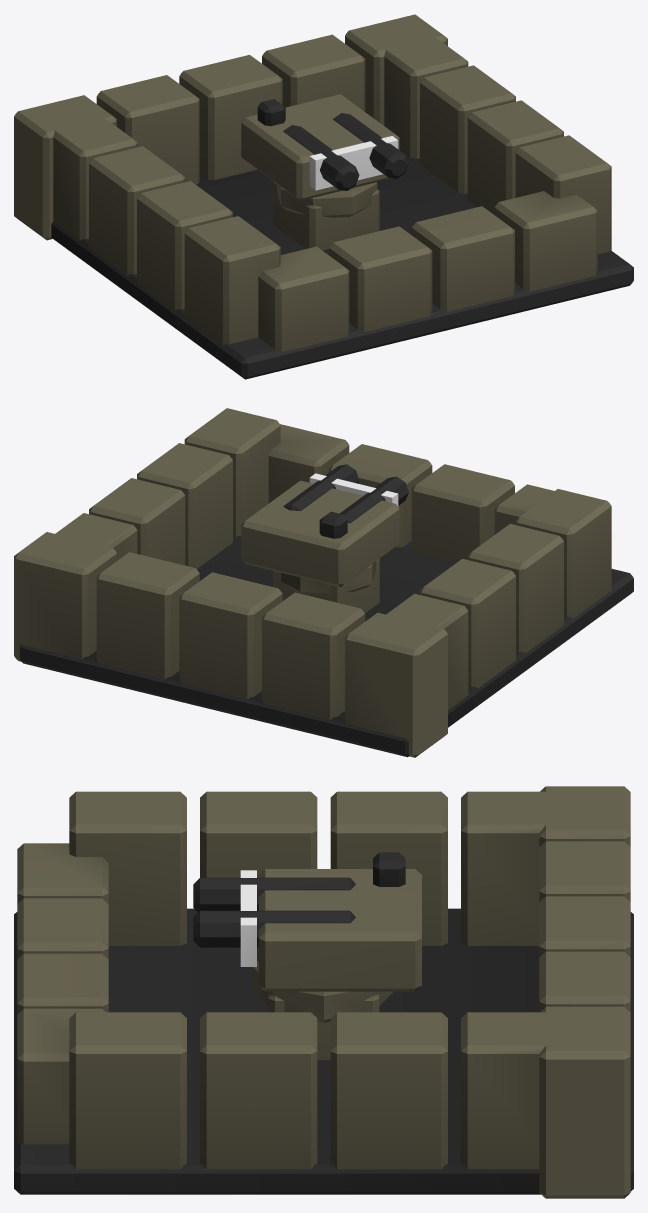
File: ru-defense.glb
The picture shows the model from 3 angles, top to bottom: view 1: azimuth 30°, elevation 25°; view 2: azimuth 150°, elevation 25°; view 3: azimuth 270°, elevation 25°; orthographic projection. The views are drawn at different scales.
Visible parts, largest first — view 1: ru-defense, turret; view 2: ru-defense, turret; view 3: ru-defense, turret.
Boxes of the visible parts, <box> form: ru-defense: <box>14,14,633,379</box>; turret: <box>241,94,408,217</box>; ru-defense: <box>14,408,633,757</box>; turret: <box>241,464,408,595</box>; ru-defense: <box>14,786,633,1198</box>; turret: <box>193,852,421,1022</box>.
Size of the model in its own units: 1.96 by 0.64 by 1.9.
